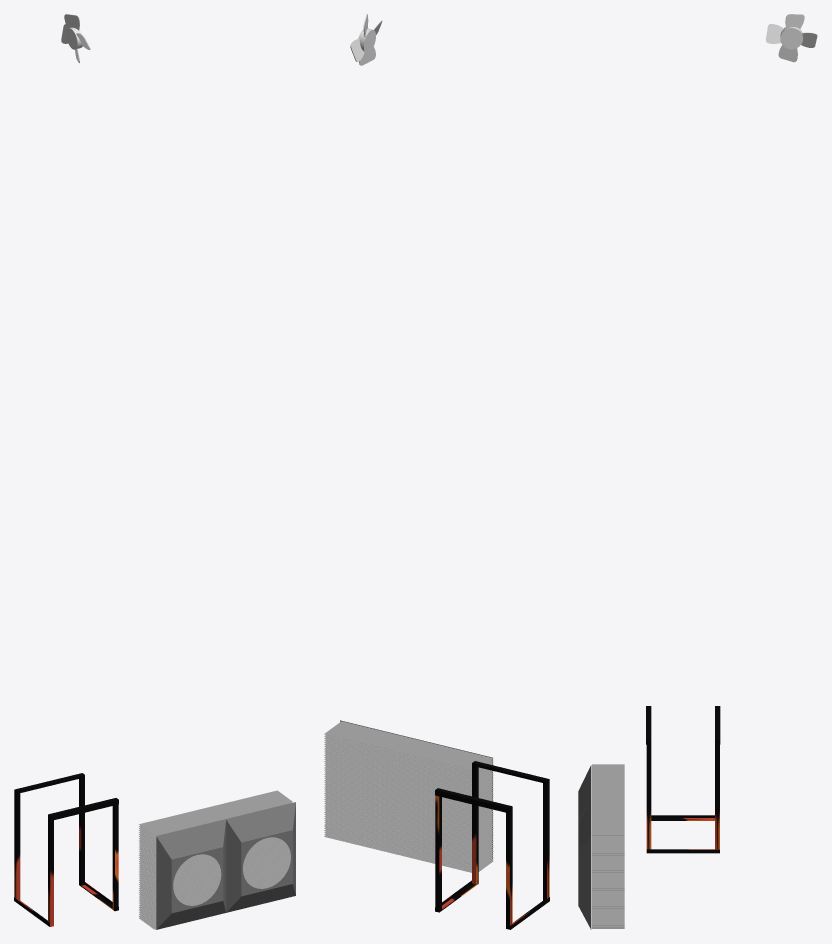
The model's file is Cooling.fbx.
The picture shows the model from 3 angles, left to right: view 1: azimuth 30°, elevation 25°; view 2: azimuth 150°, elevation 25°; view 3: azimuth 270°, elevation 25°; orthographic projection. The views are drawn at different scales.
Visible parts, largest first — view 1: Cylinder.005, Первый блок Электрофильтр\Ножки, Cylinder.026; view 2: Cylinder.005, Первый блок Электрофильтр\Ножки, Cylinder.026; view 3: Cylinder.005, Первый блок Электрофильтр\Ножки, Cylinder.026.
Boxes of the visible parts, bbox=[...] form: Cylinder.005: bbox=[139, 790, 295, 929]; Первый блок Электрофильтр\Ножки: bbox=[14, 773, 118, 926]; Cylinder.026: bbox=[61, 14, 90, 62]; Cylinder.005: bbox=[324, 720, 493, 872]; Первый блок Электрофильтр\Ножки: bbox=[435, 761, 549, 929]; Cylinder.026: bbox=[350, 14, 382, 65]; Cylinder.005: bbox=[578, 764, 624, 929]; Первый блок Электрофильтр\Ножки: bbox=[646, 706, 720, 853]; Cylinder.026: bbox=[766, 14, 817, 62].
Bounding box in the file's own units: 129314 × 473656 × 120001.
